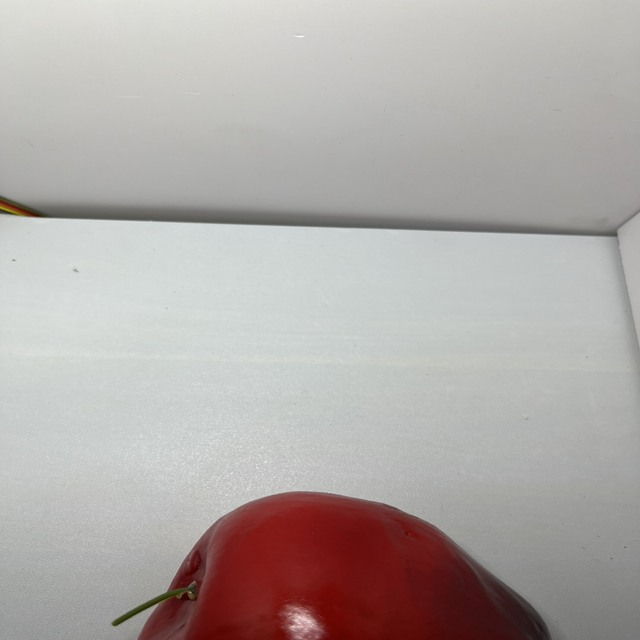Tao: (119, 482, 562, 640)
